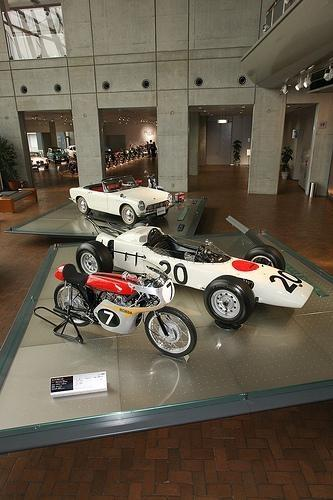car: (76, 215, 314, 327), (68, 178, 176, 228), (46, 148, 70, 164), (29, 151, 49, 169), (64, 145, 76, 159)
motorcycle: (56, 265, 195, 356), (120, 148, 136, 164), (104, 154, 118, 168), (129, 146, 138, 160)
